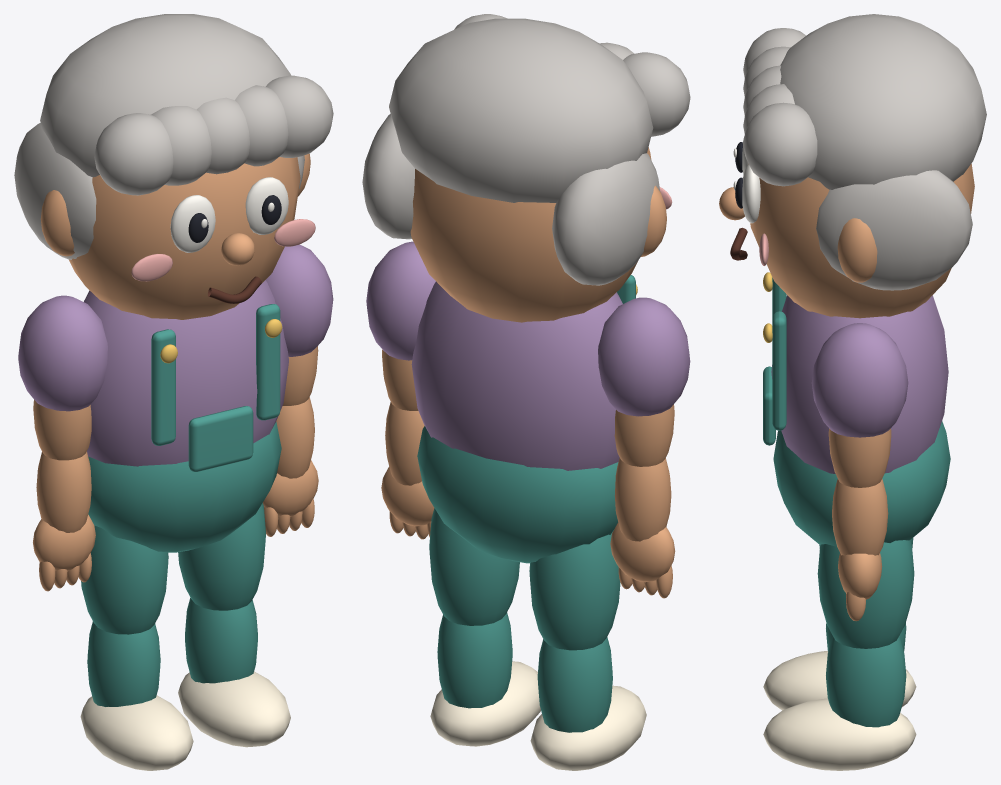
File: word-grandma.glb
The picture shows the model from 3 angles, left to right: view 1: azimuth 30°, elevation 25°; view 2: azimuth 150°, elevation 25°; view 3: azimuth 270°, elevation 25°; orthographic projection. The views are drawn at different scales.
Visible parts, largest first — view 1: hair cap, clay head, soft shirt, overalls, shirt sleeve, trouser leg, little shoe, little shoe.001, bob hair, trouser leg.001, fringe, shirt sleeve.001 (+22 smaller); view 2: hair cap, soft shirt, clay head, overalls, bob hair, shirt sleeve, trouser leg, trouser leg.001, lower leg, lower leg.001, shirt sleeve.001, little shoe (+10 smaller); view 3: hair cap, soft shirt, bob hair.001, clay head, shirt sleeve.001, overalls, little shoe.001, trouser leg.001, lower leg.001, fringe.004, forearm.001, little shoe (+11 smaller).
Part boxes in pixels (left/top/right/bottom): hair cap: left=40, top=14, right=291, bottom=177; clay head: left=69, top=157, right=300, bottom=319; soft shirt: left=84, top=280, right=288, bottom=466; overalls: left=88, top=422, right=281, bottom=552; shirt sleeve: left=18, top=295, right=107, bottom=411; trouser leg: left=81, top=525, right=168, bottom=634; little shoe: left=80, top=695, right=193, bottom=770; little shoe.001: left=178, top=671, right=290, bottom=747; bob hair: left=14, top=123, right=96, bottom=259; trouser leg.001: left=178, top=503, right=265, bottom=610; fringe: left=94, top=113, right=173, bottom=195; shirt sleeve.001: left=266, top=244, right=333, bottom=356; hair cap: left=389, top=18, right=653, bottom=202; soft shirt: left=411, top=281, right=622, bottom=470; clay head: left=410, top=147, right=651, bottom=322; overalls: left=417, top=426, right=618, bottom=563; bob hair: left=552, top=153, right=660, bottom=285; shirt sleeve: left=598, top=297, right=690, bottom=416; trouser leg: left=529, top=530, right=620, bottom=650; trouser leg.001: left=429, top=508, right=519, bottom=625; lower leg: left=537, top=637, right=612, bottom=732; lower leg.001: left=437, top=612, right=512, bottom=708; shirt sleeve.001: left=366, top=241, right=435, bottom=360; little shoe: left=530, top=685, right=646, bottom=770; hair cap: left=780, top=14, right=986, bottom=189; soft shirt: left=771, top=295, right=948, bottom=473; bob hair.001: left=816, top=170, right=972, bottom=290; clay head: left=748, top=163, right=974, bottom=318; shirt sleeve.001: left=811, top=323, right=908, bottom=437; overalls: left=773, top=421, right=950, bottom=546; little shoe.001: left=763, top=698, right=916, bottom=770; trouser leg.001: left=817, top=540, right=914, bottom=648; lower leg.001: left=826, top=636, right=906, bottom=727; fringe.004: left=743, top=102, right=817, bottom=186; forearm.001: left=832, top=479, right=888, bottom=555; little shoe: left=763, top=651, right=916, bottom=710.
Size of the model in its own units: 0.957 by 2.14 by 0.7315.
